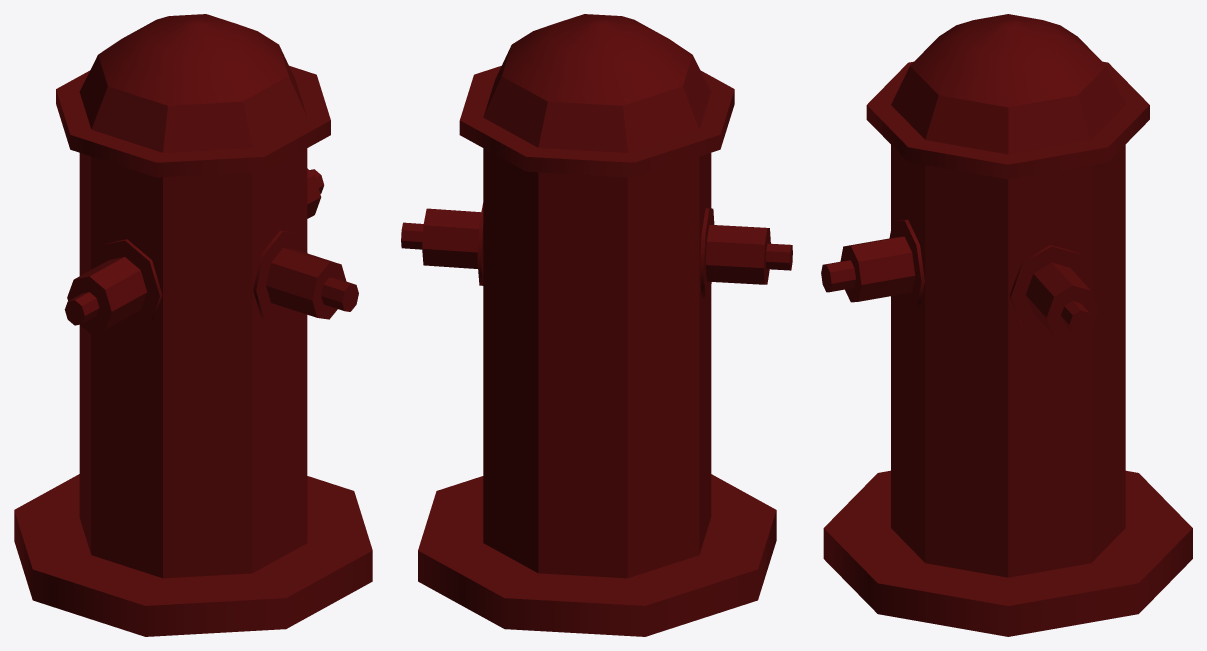
Rendered from Props5.fbx.
The picture shows the model from 3 angles, left to right: view 1: azimuth 30°, elevation 25°; view 2: azimuth 150°, elevation 25°; view 3: azimuth 270°, elevation 25°; orthographic projection.
Visible parts, largest first — view 1: Props5; view 2: Props5; view 3: Props5.
Part boxes in pixels (<box>): Props5: <box>14,14,372,636</box>; Props5: <box>401,14,792,636</box>; Props5: <box>821,14,1192,636</box>.
Size of the model in its own units: 1.28 by 2.04 by 1.28.
